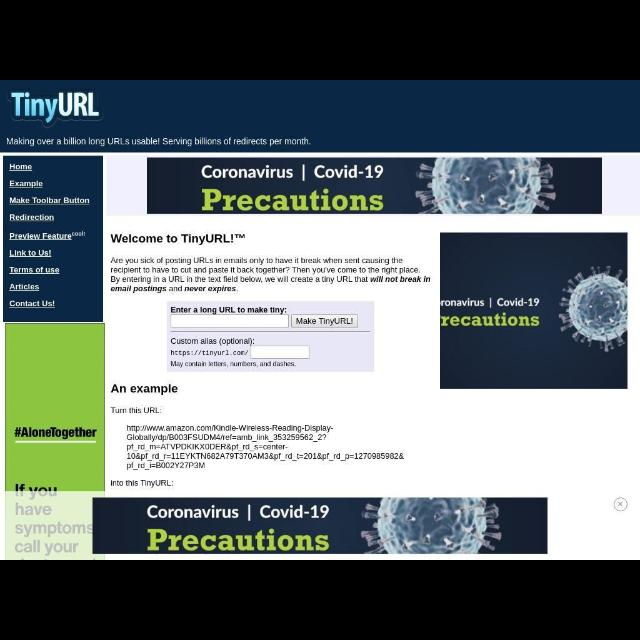icon: (612, 498, 628, 512)
iframe: (440, 232, 628, 388), (146, 158, 602, 214), (92, 498, 548, 554), (6, 323, 106, 559)
image: (5, 90, 104, 128)
input: (172, 316, 288, 326), (252, 346, 308, 358)
text: (126, 424, 404, 470), (110, 256, 430, 294), (6, 136, 312, 146), (110, 234, 246, 246), (170, 306, 288, 316), (172, 360, 296, 368), (112, 384, 178, 396), (170, 338, 254, 346), (171, 349, 249, 357), (10, 232, 86, 240), (9, 198, 91, 205), (296, 318, 354, 327), (110, 479, 174, 487), (8, 266, 59, 274), (9, 300, 55, 308), (10, 214, 54, 222), (9, 249, 51, 257), (110, 408, 162, 414), (8, 180, 44, 188), (8, 283, 40, 291), (9, 163, 33, 171)
textbutton: (292, 315, 358, 327)
